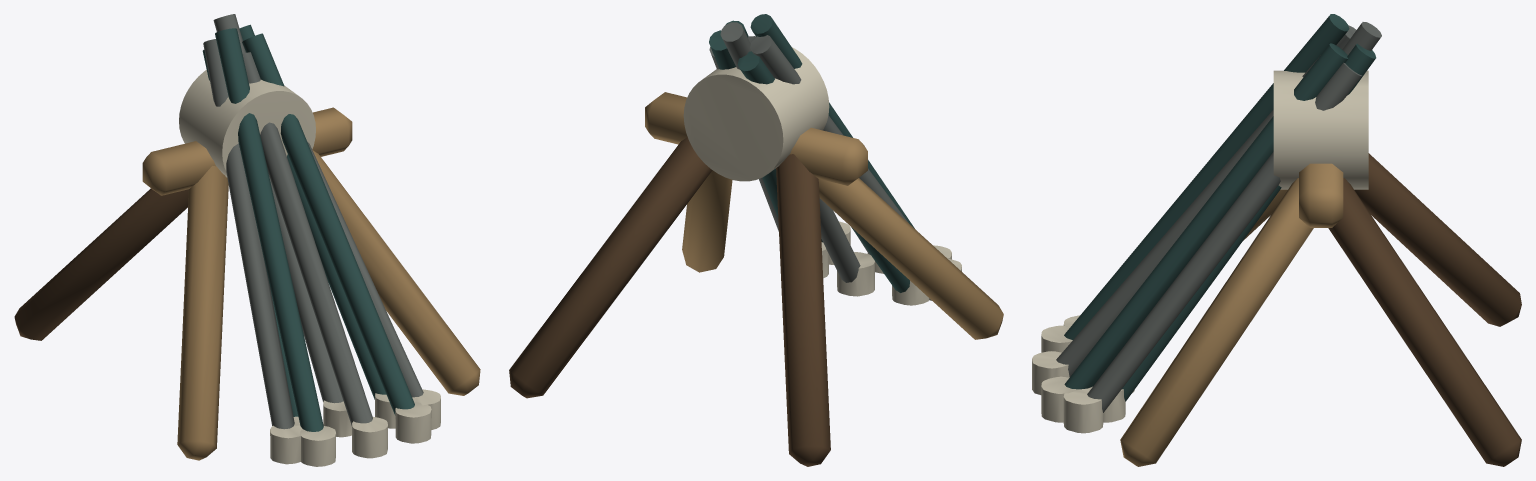
File: drill_steels_a_lod1.glb
The picture shows the model from 3 angles, left to right: view 1: azimuth 30°, elevation 25°; view 2: azimuth 150°, elevation 25°; view 3: azimuth 270°, elevation 25°; orthographic projection. The views are drawn at different scales.
Parts seen in each view (by area): view 1: Surface.001; view 2: Surface.001; view 3: Surface.001.
Boxes of the visible parts, x1,y1,x2,y2 form: Surface.001: [14, 14, 480, 466]; Surface.001: [509, 14, 1003, 466]; Surface.001: [1032, 14, 1521, 466].
Size of the model in its own units: 1.2 by 1.3 by 1.55.
